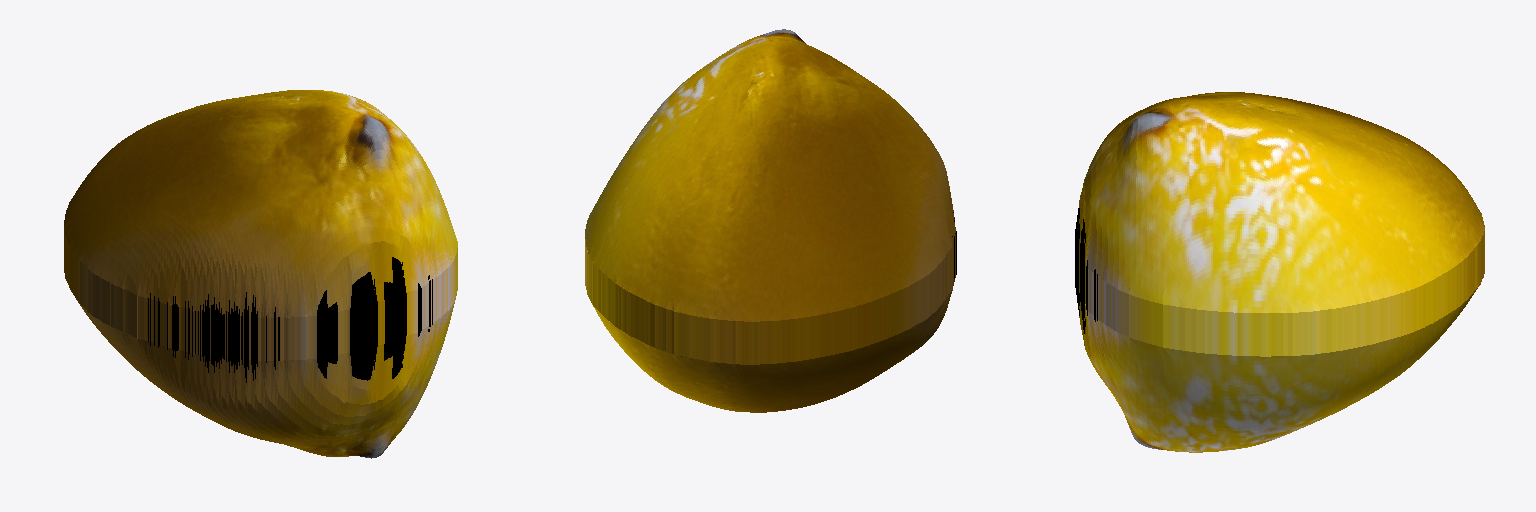
3 views of the same model, side by side, from view 1: azimuth 30°, elevation 25°; view 2: azimuth 150°, elevation 25°; view 3: azimuth 270°, elevation 25° (orthographic).
Visible parts, largest first — view 1: Grid; view 2: Grid; view 3: Grid.
Boxes of the visible parts, box(x1,y1,x2,y2) form: Grid: box(64, 90, 457, 458); Grid: box(585, 29, 956, 412); Grid: box(1075, 92, 1484, 452).
Bounding box in the file's own units: 1.58 × 1.6 × 1.73.
1 materials, 1 textured.